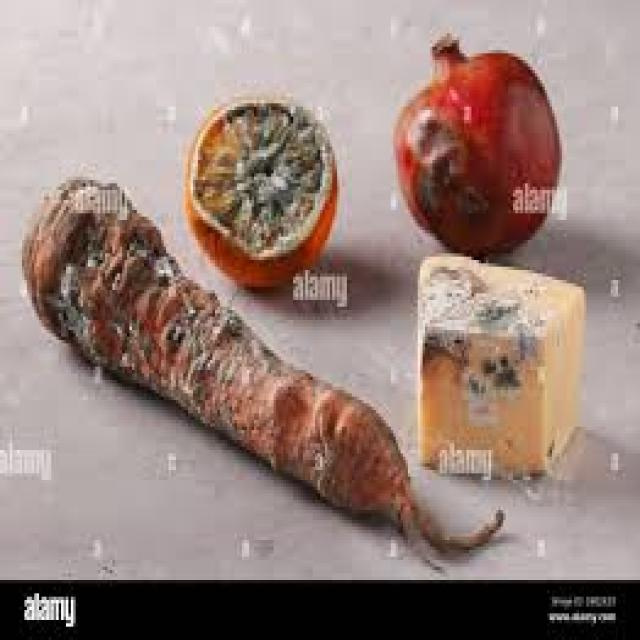Stale_Carrot: (23, 179, 436, 539)
